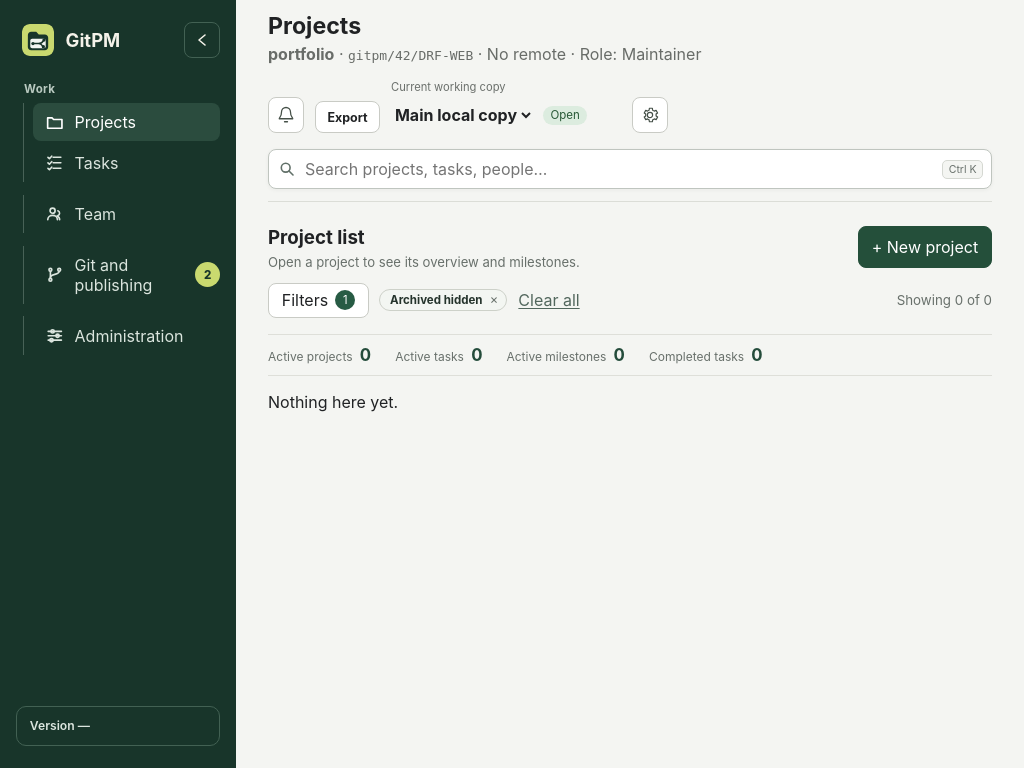
Test case: frontend draft lifecycle › labels a repository session and does not offer a meaningless sign-out action
expect the text "No remote" is shown: met, box [473,44,566,64]
expect the text "Role: Maintainer" is shown: met, box [566,44,701,64]
Click the button "Git and publishing".
click(112, 275)  # box [33,246,192,304]
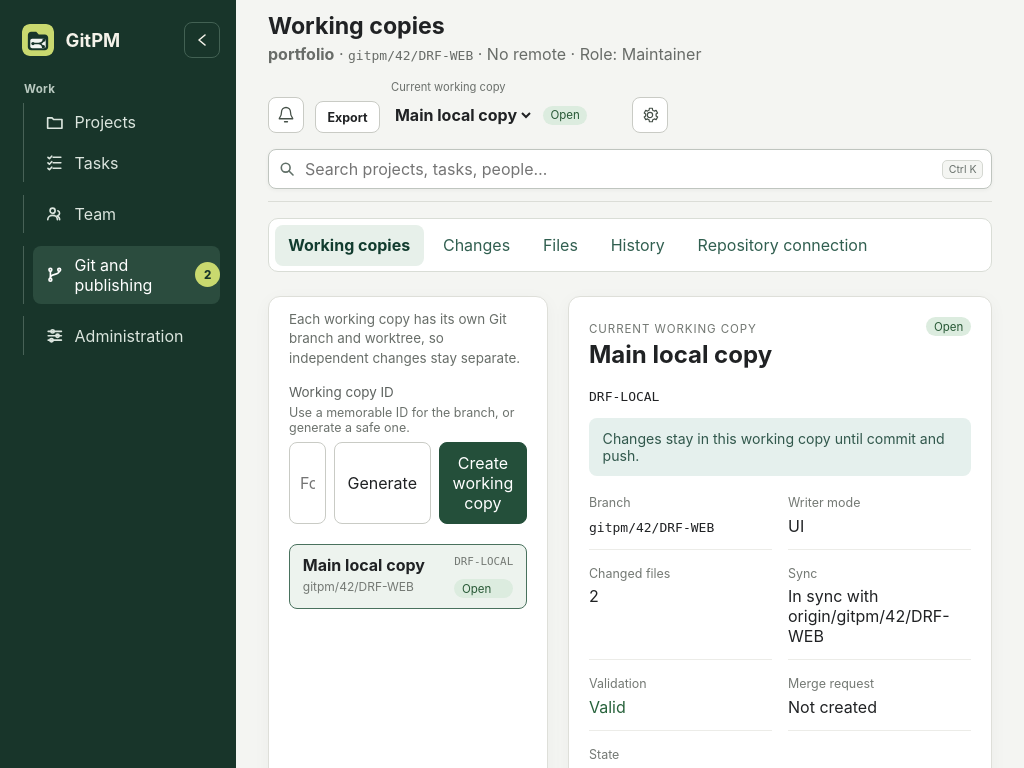
expect the heading "Working copies" is shown: met, box [268,12,445,40]
expect the text "DRF-LOCAL" below "Working copy ID" is shown: met, box [454,555,513,568]
